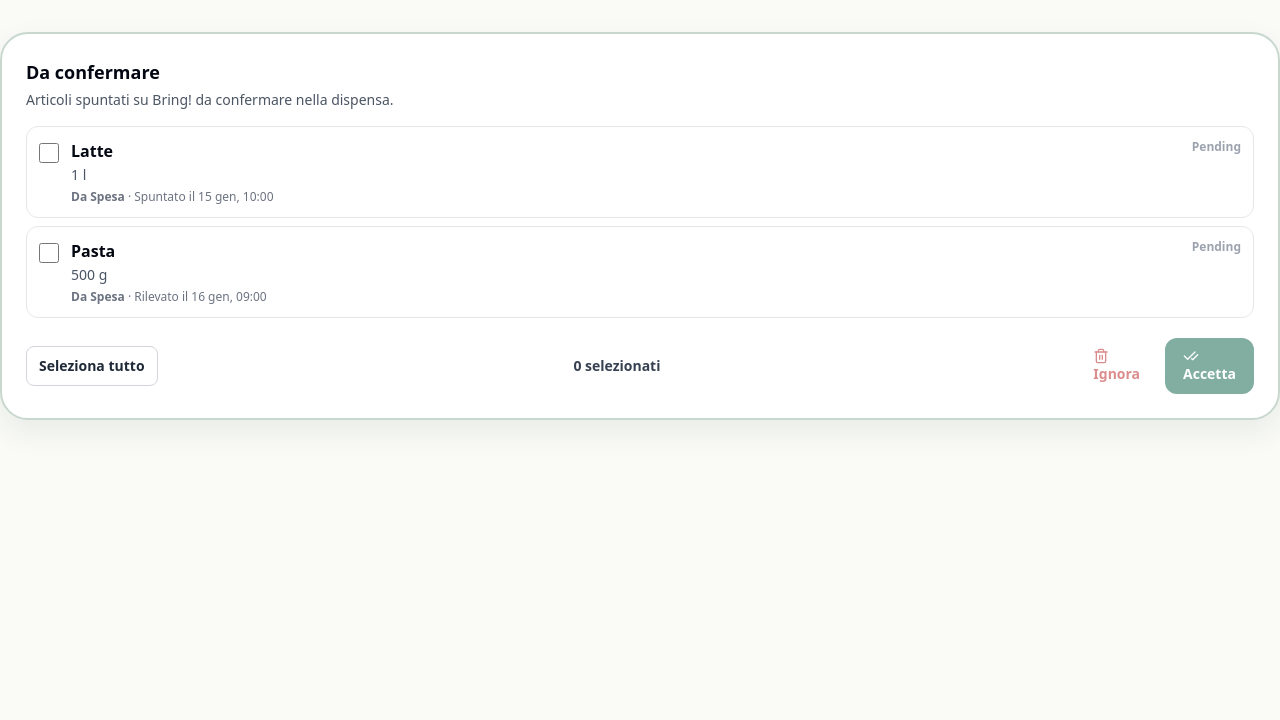
Test: CandidatesInbox › effettua il rollback e mostra il codice motivo se l’accettazione fallisce
Expected: the text "Latte" is shown, 71,140 -> 113,162
Click the checkbox named "Seleziona Latte": (49, 153) 39,143 -> 59,163
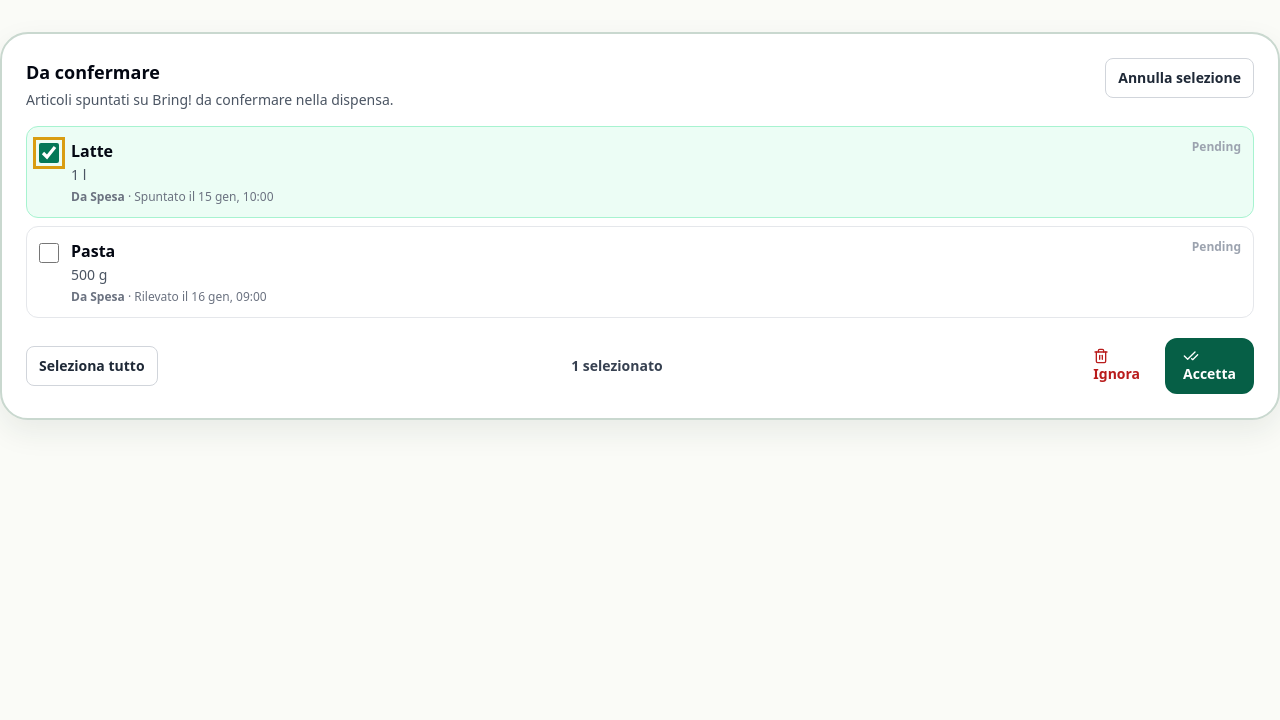
Click the button with aria-label "Accetta selezionati": (1209, 366) 1165,338 -> 1254,394
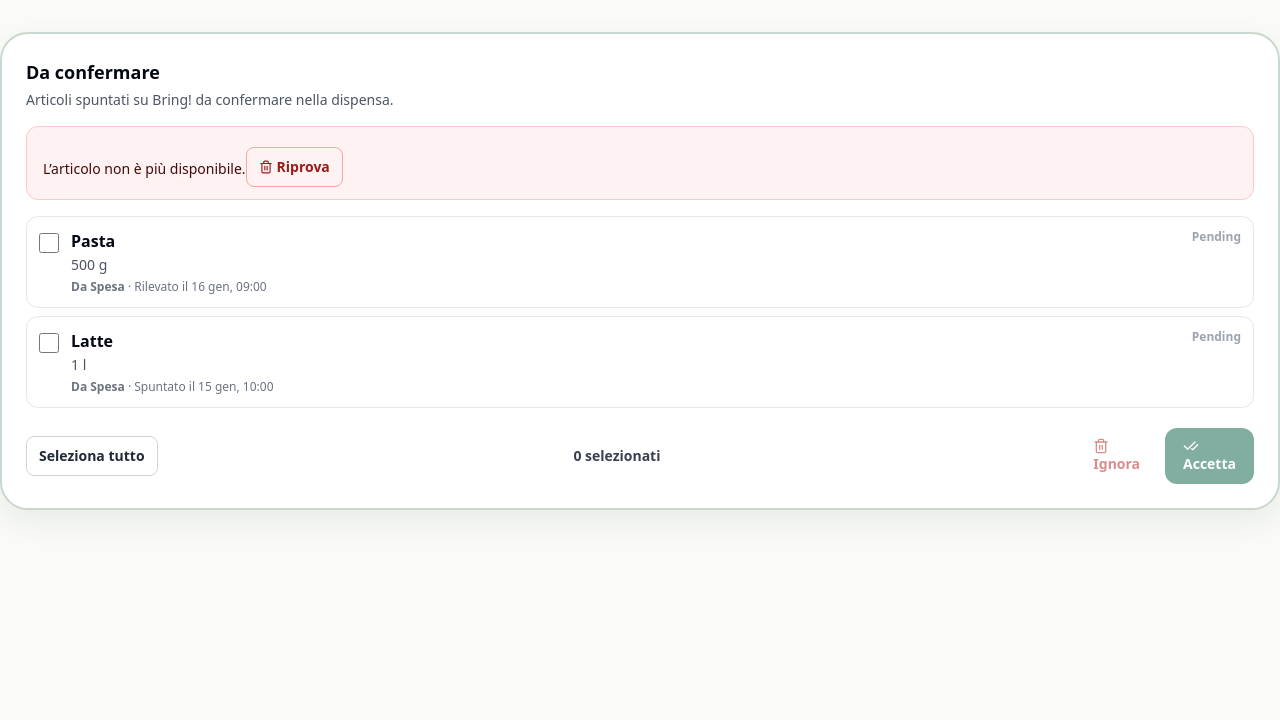
Expected: the text "Latte" is shown, 71,330 -> 113,352
Expected: the message shows "non è più disponibile", 43,159 -> 246,178
